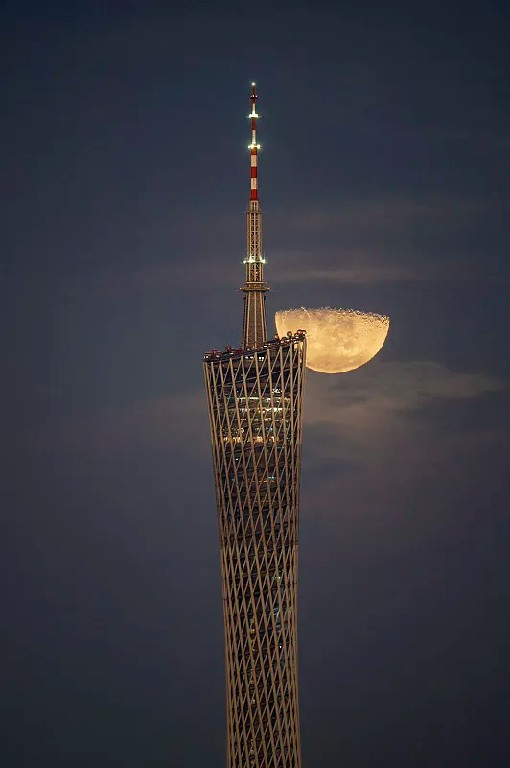Canton: (204, 74, 315, 768)
